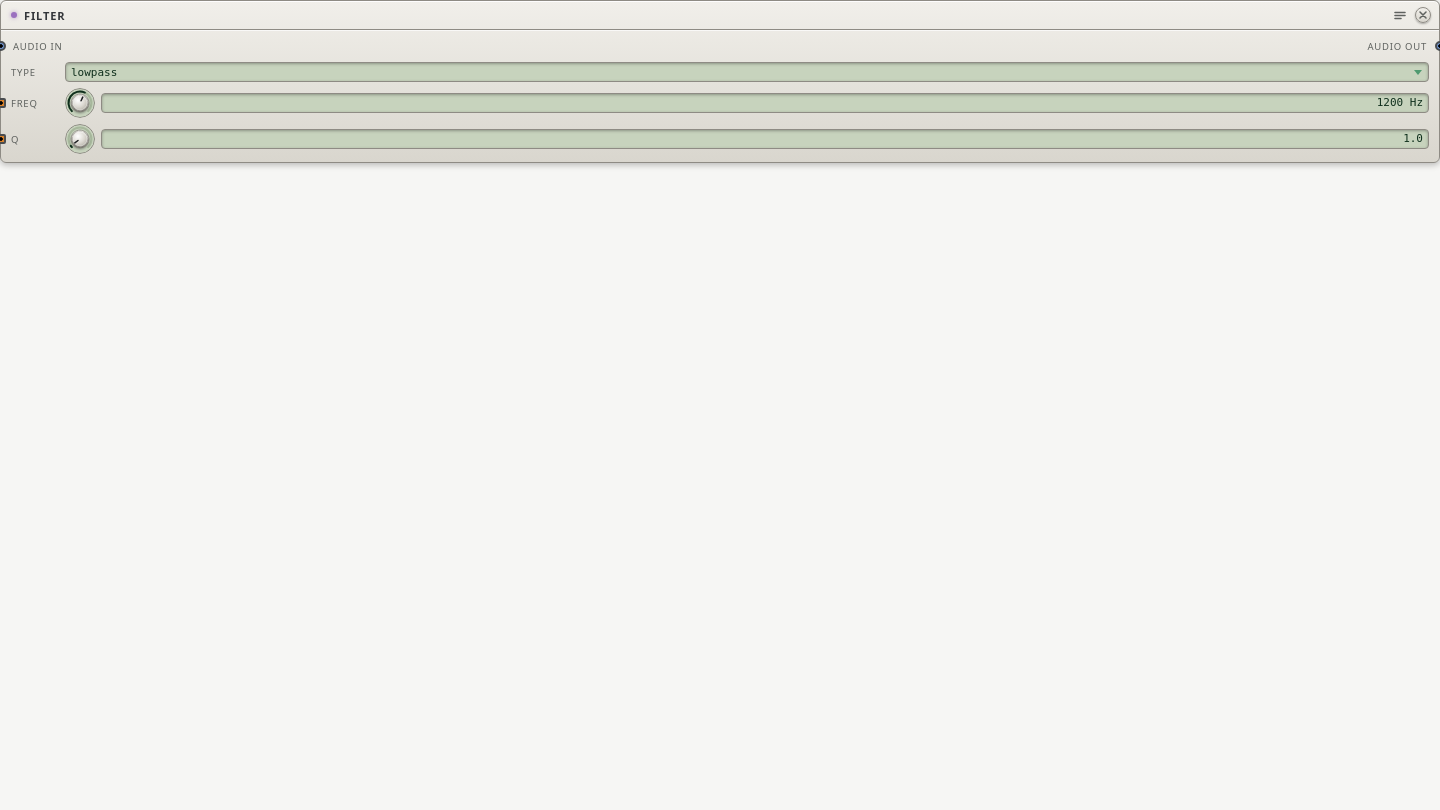
Test case: PresetMenu › deletes a preset
Click the button named "Presets of Filter".
click(1400, 15)  # box [1392,7,1408,23]
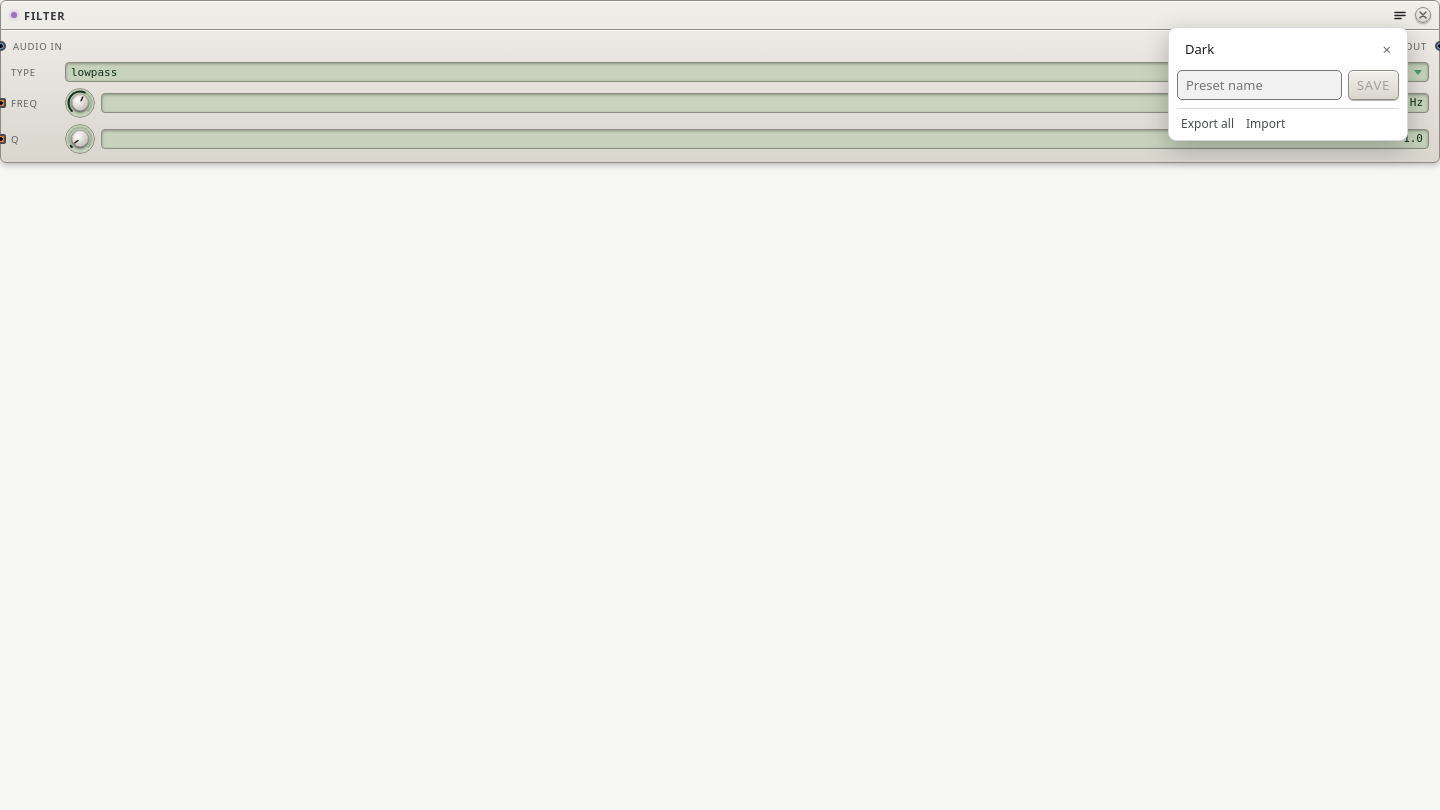
Click the button named "Delete preset Dark".
click(1387, 49)  # box [1374,42,1399,56]
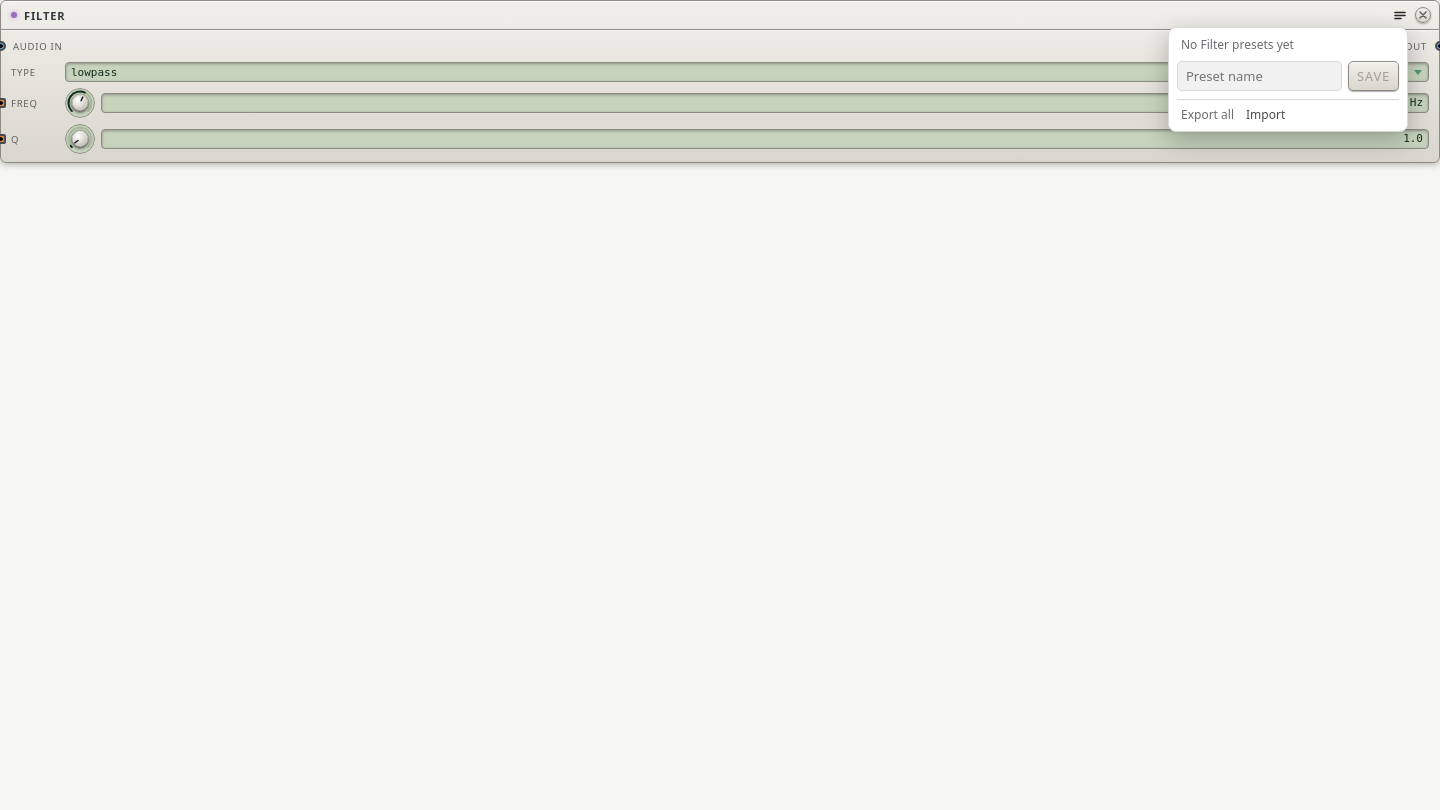
Now the text "No Filter presets yet" is shown, box [1181,36,1294,53]
